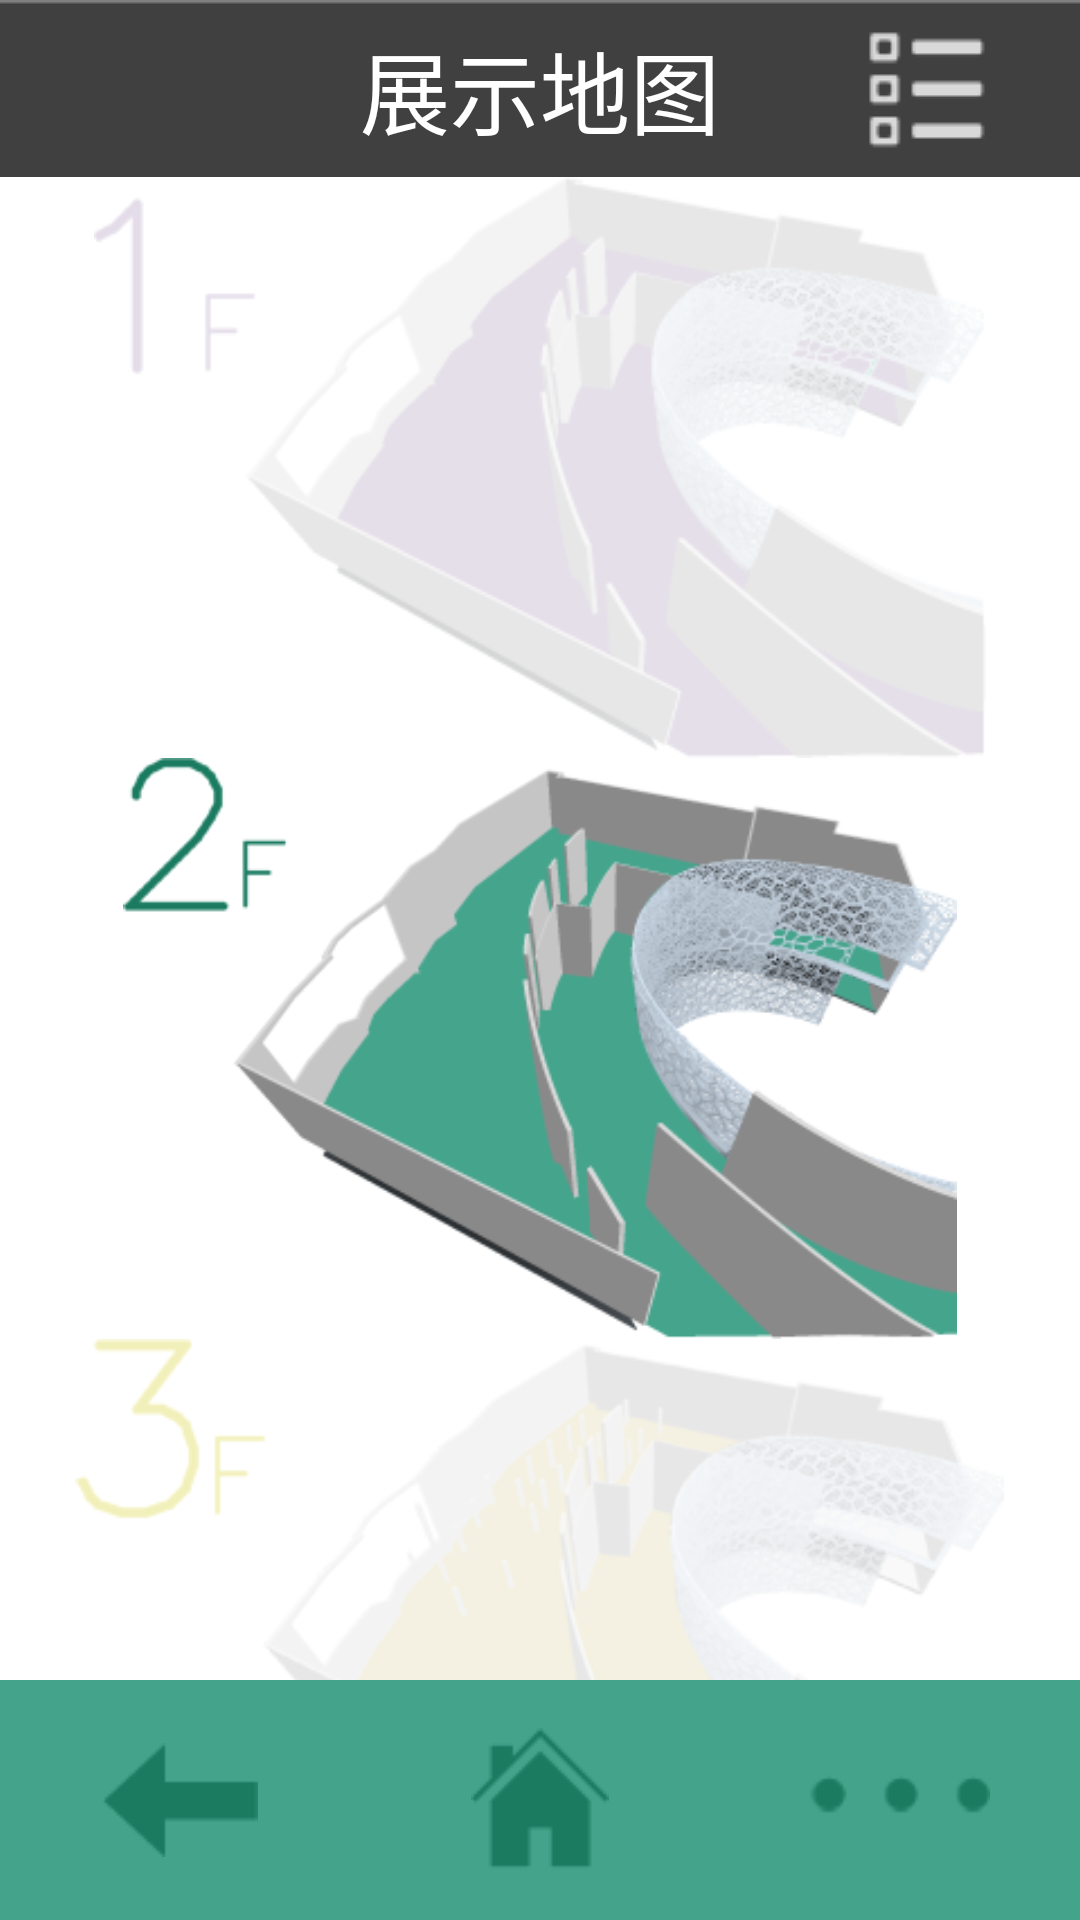

Where icons sit on this 1080×1920 app screen, as rect(x1, y1, x2, y2):
back: rect(105, 1746, 258, 1855)
home: rect(473, 1731, 609, 1866)
top list: rect(869, 32, 984, 147)
